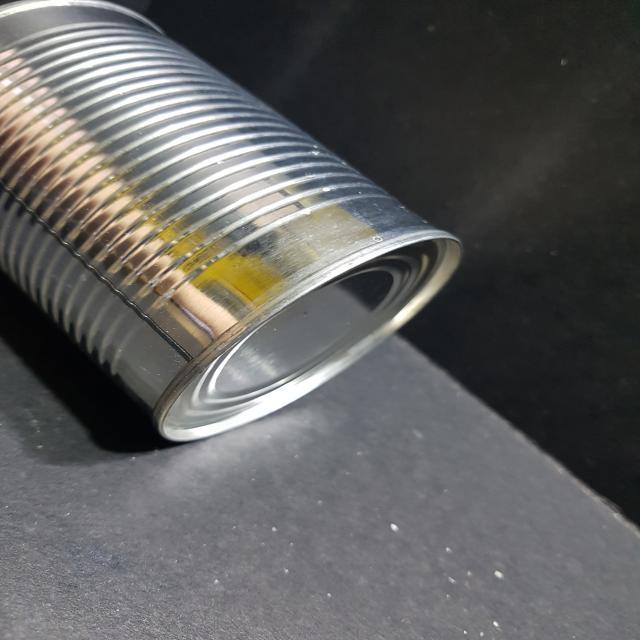metal-can: (0, 0, 468, 445)
